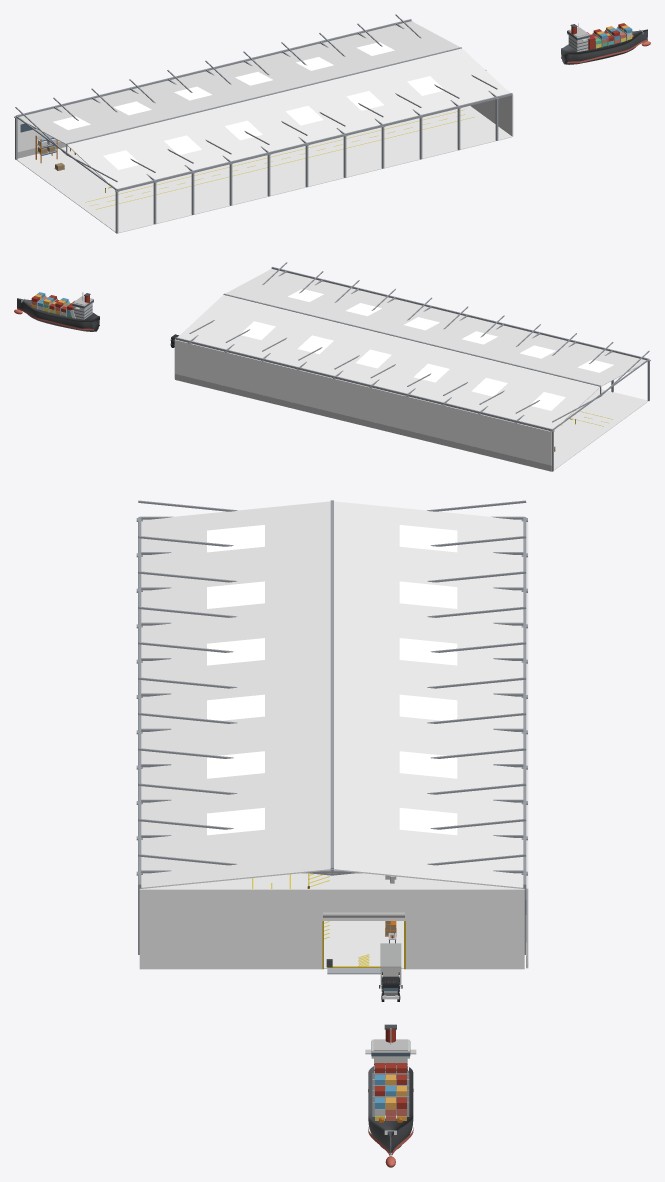
The model's file is journey.glb.
3 renders of one model, top to bottom at view 1: azimuth 30°, elevation 25°; view 2: azimuth 150°, elevation 25°; view 3: azimuth 270°, elevation 25°, orthographic. The views are drawn at different scales.
Visible parts, largest first — view 1: roof_1, fac_floor, roof_0, eave_f, hull, eave_b, endwall_l, ridge_beam, wall_back, skylite_1_3, skylite_1_1, skylite_1_0 (+5 smaller); view 2: roof_0, wall_back, roof_1, fac_floor, wall_dado, eave_b, eave_f, hull, ridge_beam, skylite_0_3, skylite_0_1, skylite_0_4 (+3 smaller); view 3: roof_0, roof_1, endwall_l, endwall_r, fac_floor, endwall_head, ridge_beam, hull, eave_b, eave_f, skylite_0_1, skylite_0_3 (+11 smaller).
Part boxes in pixels (box(x1,y1,x2,y2)): roof_1: box(67, 48, 509, 188); fac_floor: box(16, 106, 511, 233); roof_0: box(17, 21, 459, 144); eave_f: box(117, 93, 512, 191); hull: box(561, 29, 647, 64); eave_b: box(16, 19, 411, 116); endwall_l: box(470, 92, 513, 136); ridge_beam: box(66, 47, 461, 144); wall_back: box(17, 119, 60, 151); skylite_1_3: box(286, 105, 323, 125); skylite_1_1: box(164, 135, 201, 154); skylite_1_0: box(103, 150, 139, 169); roof_0: box(177, 295, 599, 429); wall_back: box(175, 339, 551, 465); roof_1: box(225, 269, 647, 386); fac_floor: box(554, 388, 648, 470); wall_dado: box(175, 374, 551, 471); eave_b: box(175, 337, 552, 430); eave_f: box(271, 267, 648, 360); hull: box(17, 298, 99, 331); ridge_beam: box(223, 293, 600, 386); skylite_0_3: box(356, 349, 391, 368); skylite_0_1: box(471, 378, 507, 396); skylite_0_4: box(298, 335, 333, 354); roof_0: box(332, 501, 524, 888); roof_1: box(139, 501, 332, 888); endwall_l: box(139, 889, 322, 969); endwall_r: box(406, 889, 524, 969); fac_floor: box(144, 873, 520, 968); endwall_head: box(322, 889, 405, 920); ridge_beam: box(330, 500, 333, 870); hull: box(368, 1066, 413, 1156); eave_b: box(523, 517, 526, 888); eave_f: box(138, 517, 141, 888); skylite_0_1: box(399, 581, 457, 608); skylite_0_3: box(399, 694, 457, 720).
Bounding box in the file's own units: 158 × 14.75 × 46.81.
